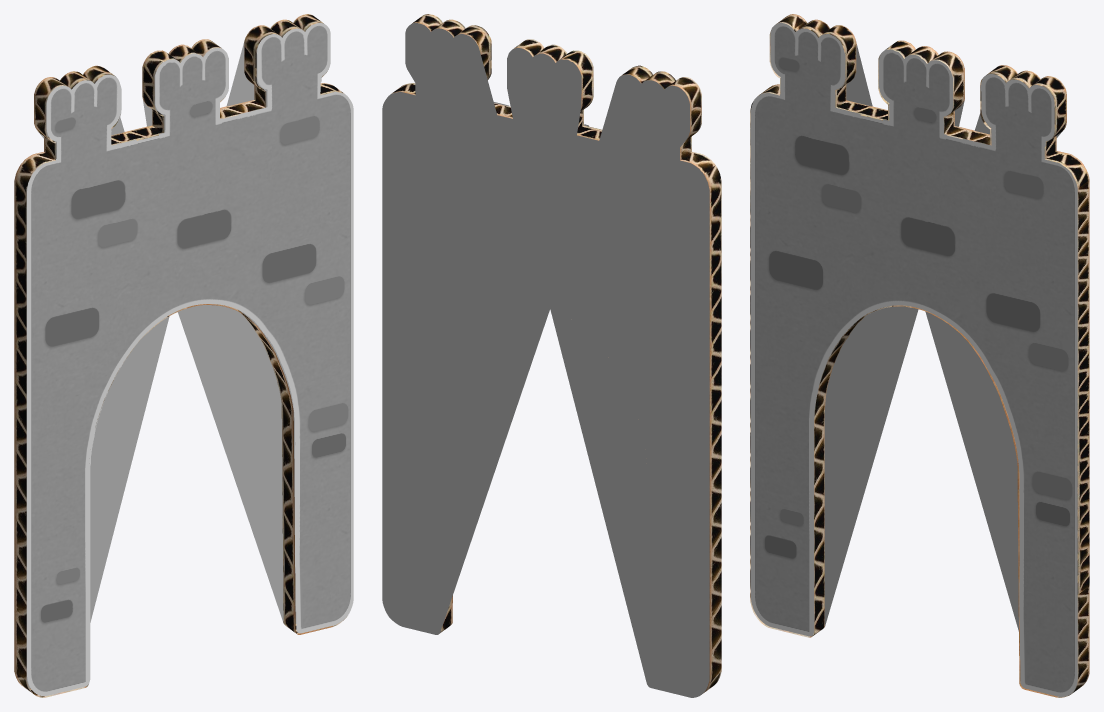
The model's file is gate.fbx.
The picture shows the model from 3 angles, left to right: view 1: azimuth 30°, elevation 25°; view 2: azimuth 150°, elevation 25°; view 3: azimuth 330°, elevation 25°; orthographic projection.
Parts seen in each view (by area): view 1: stone gate; view 2: stone gate; view 3: stone gate.
Part boxes in pixels (<box>): stone gate: <box>14,14,353,697</box>; stone gate: <box>382,14,721,697</box>; stone gate: <box>750,14,1089,697</box>.
Size of the model in its own units: 471 by 837 by 30.84.
